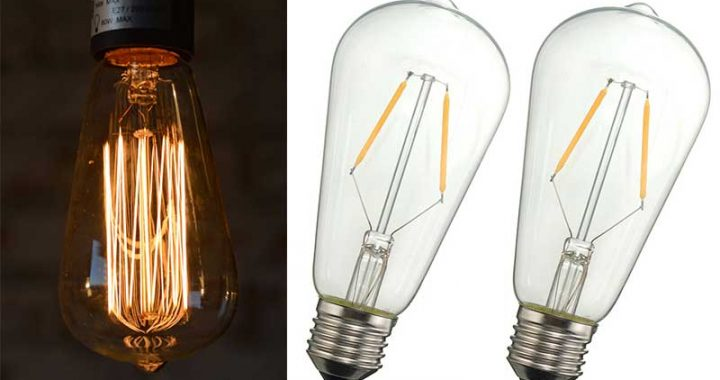Light_bulb: (299, 2, 518, 380), (506, 4, 712, 380), (50, 43, 245, 380)
